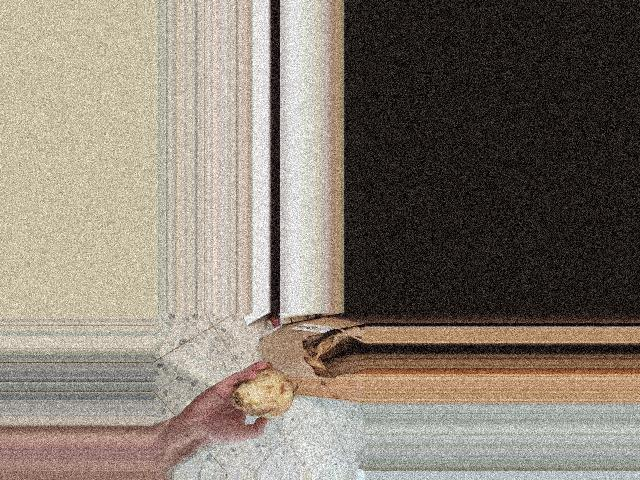onion: (225, 365, 296, 422)
